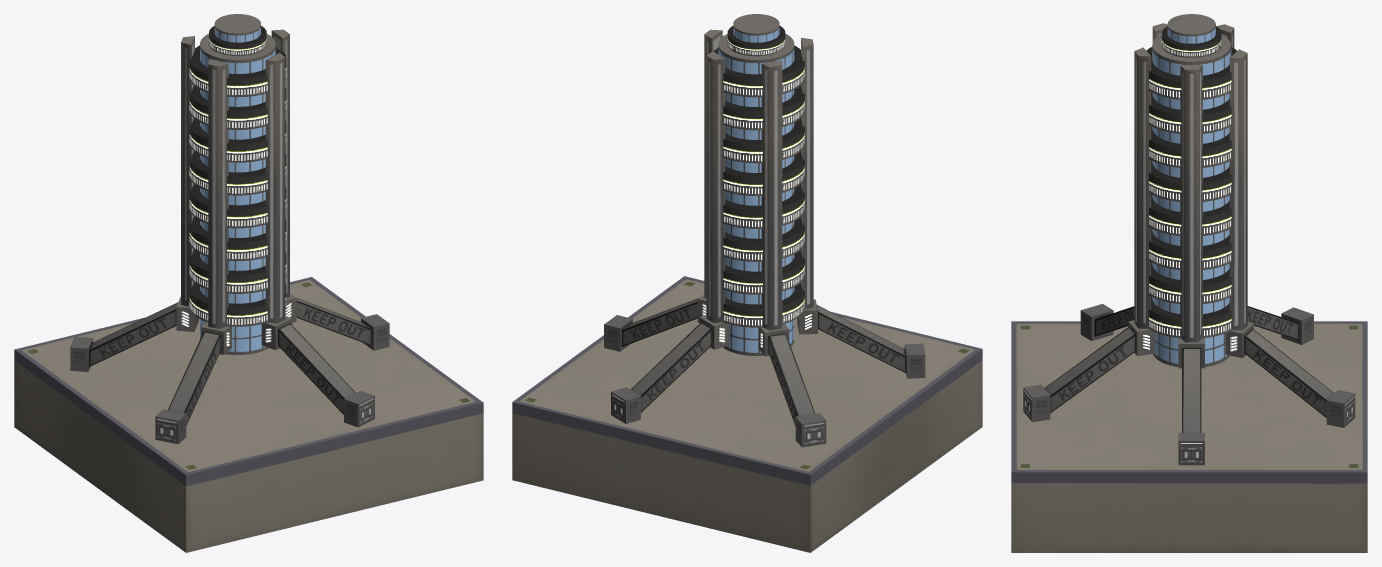
The model's file is Sci-Fi_Prefab_Var2.fbx.
3 views of the same model, side by side, from view 1: azimuth 30°, elevation 25°; view 2: azimuth 150°, elevation 25°; view 3: azimuth 270°, elevation 25° (orthographic). The views are drawn at different scales.
Visible parts, largest first — view 1: ProjectRG_Environment_Sci-Fi_BaseFoundation_Large.001, ProjectRG_Environment_Sci-Fi_TallTowerSupport.013, ProjectRG_Environment_Sci-Fi_TallTowerSupport.012, ProjectRG_Environment_Sci-Fi_BottomFoundation.004, ProjectRG_Environment_Sci-Fi_BottomFoundation.005, ProjectRG_Environment_Sci-Fi_BottomFoundation.006, ProjectRG_Environment_Sci-Fi_TallTowerSupport.010, ProjectRG_Environment_Sci-Fi_BottomFoundation.001, ProjectRG_Environment_Sci-Fi_DonutViewingBlock.016, ProjectRG_Environment_Sci-Fi_DonutViewingBlock.001, ProjectRG_Environment_Sci-Fi_DonutViewingBlock.013, ProjectRG_Environment_Sci-Fi_DonutViewingBlock.014 (+9 smaller); view 2: ProjectRG_Environment_Sci-Fi_BaseFoundation_Large.001, ProjectRG_Environment_Sci-Fi_TallTowerSupport.010, ProjectRG_Environment_Sci-Fi_TallTowerSupport.015, ProjectRG_Environment_Sci-Fi_BottomFoundation.002, ProjectRG_Environment_Sci-Fi_BottomFoundation.006, ProjectRG_Environment_Sci-Fi_BottomFoundation.005, ProjectRG_Environment_Sci-Fi_TallTowerSupport.013, ProjectRG_Environment_Sci-Fi_BottomFoundation.001, ProjectRG_Environment_Sci-Fi_DonutViewingBlock.016, ProjectRG_Environment_Sci-Fi_DonutViewingBlock.001, ProjectRG_Environment_Sci-Fi_DonutViewingBlock.010, ProjectRG_Environment_Sci-Fi_DonutViewingBlock.015 (+9 smaller); view 3: ProjectRG_Environment_Sci-Fi_BaseFoundation_Large.001, ProjectRG_Environment_Sci-Fi_TallTowerSupport.009, ProjectRG_Environment_Sci-Fi_TallTowerSupport.015, ProjectRG_Environment_Sci-Fi_TallTowerSupport.012, ProjectRG_Environment_Sci-Fi_BottomFoundation.002, ProjectRG_Environment_Sci-Fi_BottomFoundation.004, ProjectRG_Environment_Sci-Fi_BottomFoundation.001, ProjectRG_Environment_Sci-Fi_DonutViewingBlock.016, ProjectRG_Environment_Sci-Fi_BottomFoundation.006, ProjectRG_Environment_Sci-Fi_DonutViewingBlock.014, ProjectRG_Environment_Sci-Fi_DonutViewingBlock.011, ProjectRG_Environment_Sci-Fi_DonutViewingBlock.015 (+16 smaller).
Part boxes in pixels (<box>): ProjectRG_Environment_Sci-Fi_BaseFoundation_Large.001: <box>14,277,483,552</box>; ProjectRG_Environment_Sci-Fi_TallTowerSupport.013: <box>208,59,228,328</box>; ProjectRG_Environment_Sci-Fi_TallTowerSupport.012: <box>265,53,285,323</box>; ProjectRG_Environment_Sci-Fi_BottomFoundation.004: <box>261,316,374,427</box>; ProjectRG_Environment_Sci-Fi_BottomFoundation.005: <box>155,322,231,444</box>; ProjectRG_Environment_Sci-Fi_BottomFoundation.006: <box>70,296,198,371</box>; ProjectRG_Environment_Sci-Fi_TallTowerSupport.010: <box>181,36,194,306</box>; ProjectRG_Environment_Sci-Fi_BottomFoundation.001: <box>285,293,389,350</box>; ProjectRG_Environment_Sci-Fi_DonutViewingBlock.016: <box>189,45,286,97</box>; ProjectRG_Environment_Sci-Fi_DonutViewingBlock.001: <box>189,282,286,326</box>; ProjectRG_Environment_Sci-Fi_DonutViewingBlock.013: <box>189,151,286,195</box>; ProjectRG_Environment_Sci-Fi_DonutViewingBlock.014: <box>189,118,286,162</box>; ProjectRG_Environment_Sci-Fi_BaseFoundation_Large.001: <box>512,276,982,552</box>; ProjectRG_Environment_Sci-Fi_TallTowerSupport.010: <box>761,60,782,330</box>; ProjectRG_Environment_Sci-Fi_TallTowerSupport.015: <box>706,51,725,322</box>; ProjectRG_Environment_Sci-Fi_BottomFoundation.002: <box>611,315,729,423</box>; ProjectRG_Environment_Sci-Fi_BottomFoundation.006: <box>758,324,826,447</box>; ProjectRG_Environment_Sci-Fi_BottomFoundation.005: <box>797,299,925,378</box>; ProjectRG_Environment_Sci-Fi_TallTowerSupport.013: <box>801,37,813,309</box>; ProjectRG_Environment_Sci-Fi_BottomFoundation.001: <box>604,294,706,351</box>; ProjectRG_Environment_Sci-Fi_DonutViewingBlock.016: <box>709,45,804,97</box>; ProjectRG_Environment_Sci-Fi_DonutViewingBlock.001: <box>723,283,804,327</box>; ProjectRG_Environment_Sci-Fi_DonutViewingBlock.010: <box>723,250,804,294</box>; ProjectRG_Environment_Sci-Fi_DonutViewingBlock.015: <box>723,85,804,130</box>; ProjectRG_Environment_Sci-Fi_BaseFoundation_Large.001: <box>1011,321,1367,552</box>; ProjectRG_Environment_Sci-Fi_TallTowerSupport.009: <box>1180,65,1202,342</box>; ProjectRG_Environment_Sci-Fi_TallTowerSupport.015: <box>1229,49,1247,330</box>; ProjectRG_Environment_Sci-Fi_TallTowerSupport.012: <box>1134,47,1151,328</box>; ProjectRG_Environment_Sci-Fi_BottomFoundation.002: <box>1225,322,1355,427</box>; ProjectRG_Environment_Sci-Fi_BottomFoundation.004: <box>1023,320,1155,422</box>; ProjectRG_Environment_Sci-Fi_BottomFoundation.001: <box>1178,338,1204,465</box>; ProjectRG_Environment_Sci-Fi_DonutViewingBlock.016: <box>1146,47,1236,99</box>; ProjectRG_Environment_Sci-Fi_BottomFoundation.006: <box>1247,306,1313,344</box>; ProjectRG_Environment_Sci-Fi_DonutViewingBlock.014: <box>1149,126,1231,167</box>; ProjectRG_Environment_Sci-Fi_DonutViewingBlock.011: <box>1149,228,1231,270</box>; ProjectRG_Environment_Sci-Fi_DonutViewingBlock.015: <box>1149,92,1231,133</box>.
Bounding box in the file's own units: 7119 × 9874 × 7119.
